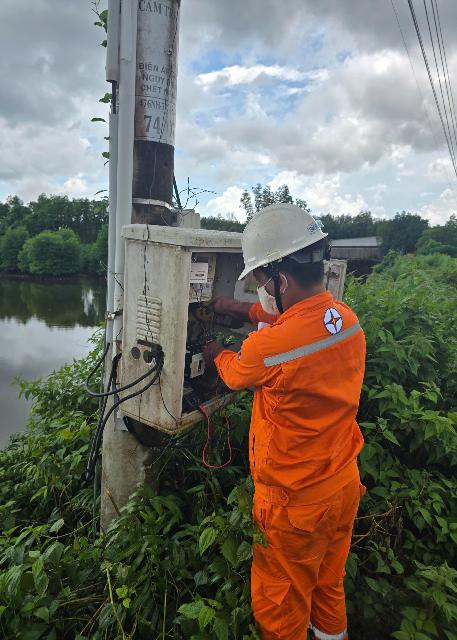gloves: (192, 291, 273, 328), (191, 343, 250, 388)
helmet: (223, 203, 368, 282)
